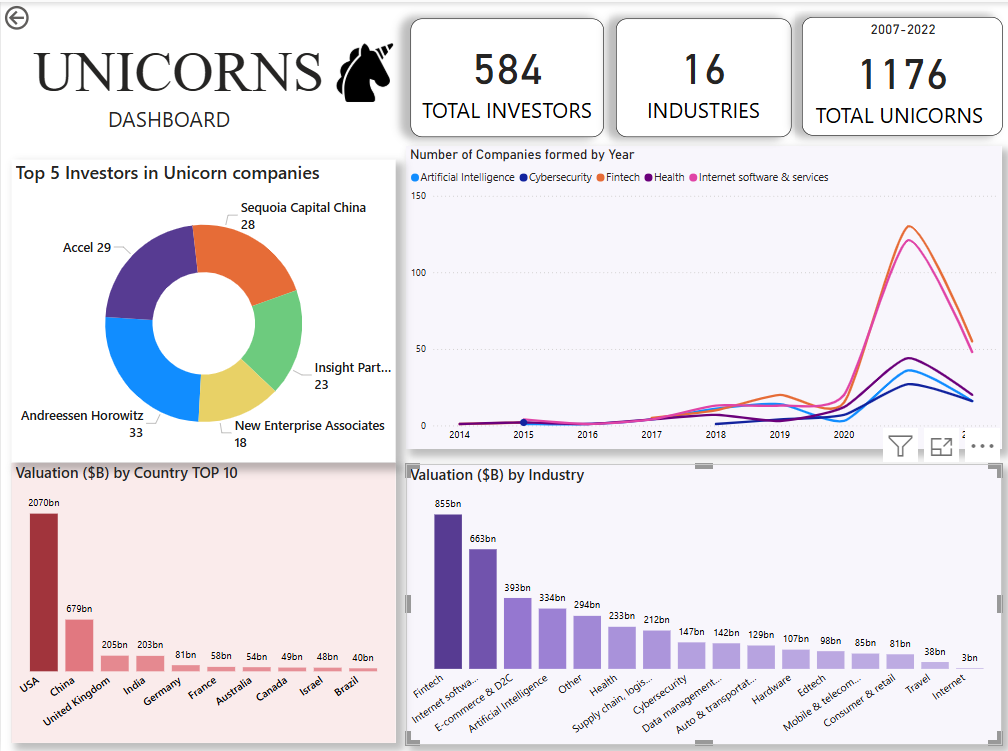

The page's visual inventory and layout, read from the dashboard file:
{"tool":"powerbi","page":{"name":"Page 1","canvas":[1280,950],"ordinal":0},"visuals":[{"type":"columnChart","title":"Valuation ($B) by Industry","fields":{"Y":["unicorns till sep 2022.Valuation ($B)"],"Category":["unicorns till sep 2022.Industry"]},"box":[512.3,584.4,753.3,354.8],"z":0},{"type":"clusteredColumnChart","title":"Valuation ($B) by Country TOP 10","fields":{"Category":["unicorns till sep 2022.Country"],"Y":["unicorns till sep 2022.Valuation ($B)"]},"box":[13.3,582.5,485.8,354.8],"z":1000},{"type":"actionButton","box":[0,0,100,40],"z":2000},{"type":"lineChart","title":"Number of Companies formed by Year","fields":{"Category":["unicorns till sep 2022.date formed.Variation.Date Hierarchy.Year"],"Y":["unicorns till sep 2022.Company"],"Series":["unicorns till sep 2022.Industry"]},"box":[512.3,182.2,753.3,383.3],"z":3000},{"type":"donutChart","title":"Top 5 Investors in Unicorn companies","fields":{"Y":["investors.Unique Investors"],"Category":["investors.Unique Investors"]},"box":[13.3,199.2,485.8,383.3],"z":4000},{"type":"textbox","box":[13.3,41.7,423.1,140.4],"z":5000},{"type":"image","box":[408,41.7,104.4,94.9],"z":6000},{"type":"card","fields":{"Values":["investors.Unique Investors"]},"box":[518,20.9,244.8,149.9],"z":7000},{"type":"card","fields":{"Values":["unicorns till sep 2022.Industry"]},"box":[778,20.9,222,149.9],"z":8000},{"type":"card","title":"2007-2022","fields":{"Values":["unicorns till sep 2022.Company"]},"box":[1013.3,19,254.3,149.9],"z":8001}]}

Visuals, with their boxes in screenshot pixels (x1, y1, x2, y2), scaled from the page's 1280x950 canvas onto the 1008x751 screenshot:
"Valuation ($B) by Industry" columnChart: l=403, t=462, r=997, b=742
"Valuation ($B) by Country TOP 10" clusteredColumnChart: l=10, t=460, r=393, b=741
actionButton: l=0, t=0, r=79, b=32
"Number of Companies formed by Year" lineChart: l=403, t=144, r=997, b=447
"Top 5 Investors in Unicorn companies" donutChart: l=10, t=157, r=393, b=460
textbox: l=10, t=33, r=344, b=144
image: l=321, t=33, r=404, b=108
card - investors.Unique Investors: l=408, t=17, r=601, b=135
card - unicorns till sep 2022.Industry: l=613, t=17, r=788, b=135
"2007-2022" card: l=798, t=15, r=998, b=134
